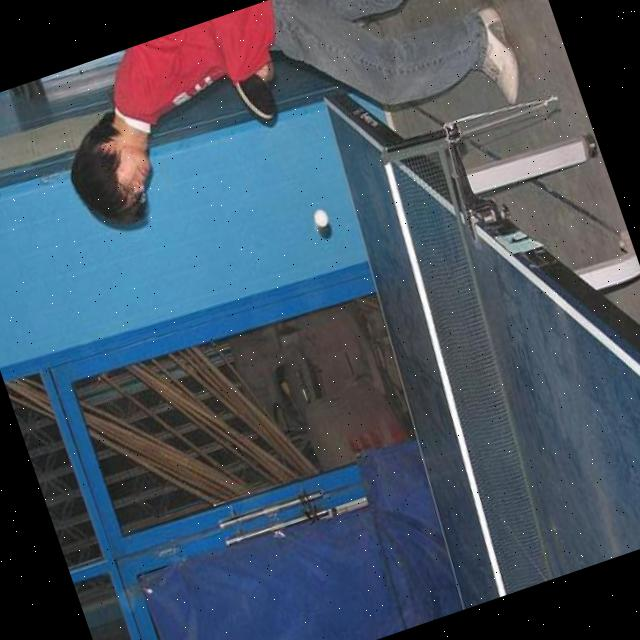ping-pong-ball: (309, 207, 330, 229)
